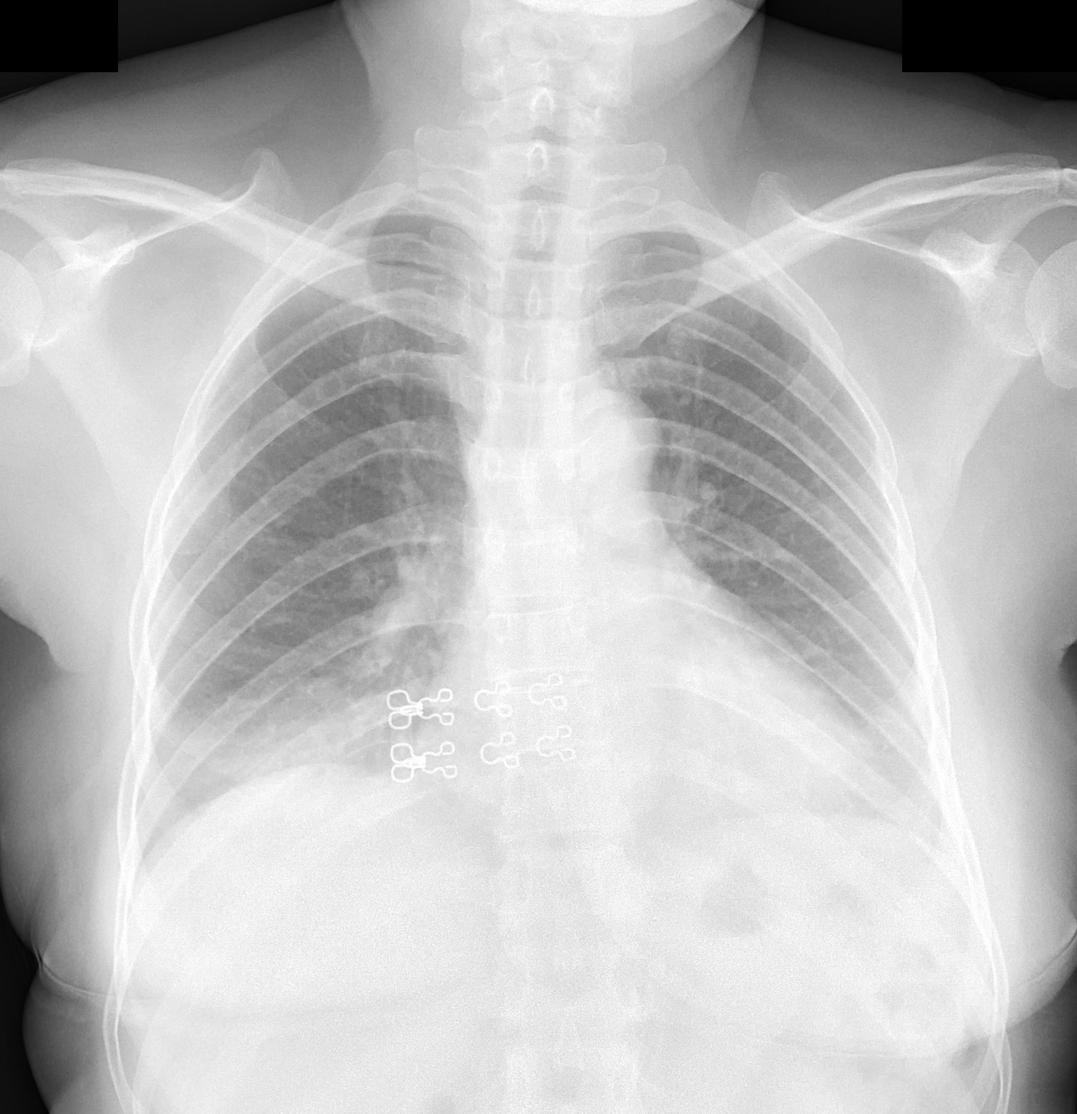Aortic enlargement: (544, 382, 662, 500)
Cardiomegaly: (406, 709, 887, 849)
Pleural thickening: (931, 812, 967, 883)
